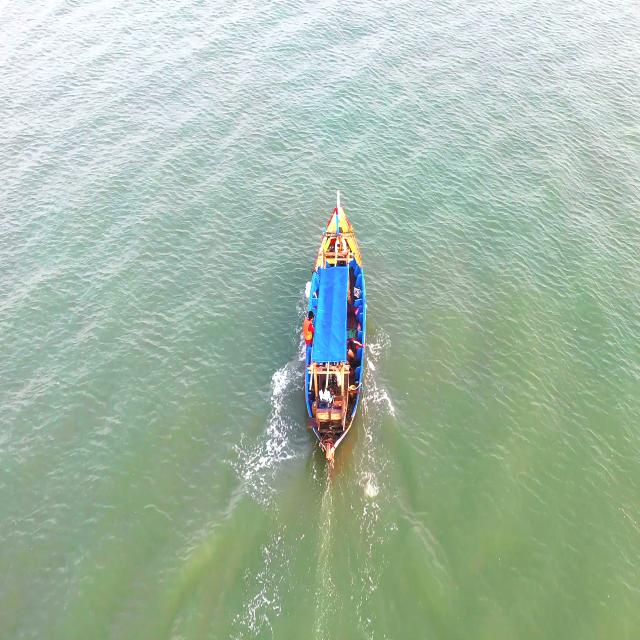ship: (303, 189, 367, 461)
